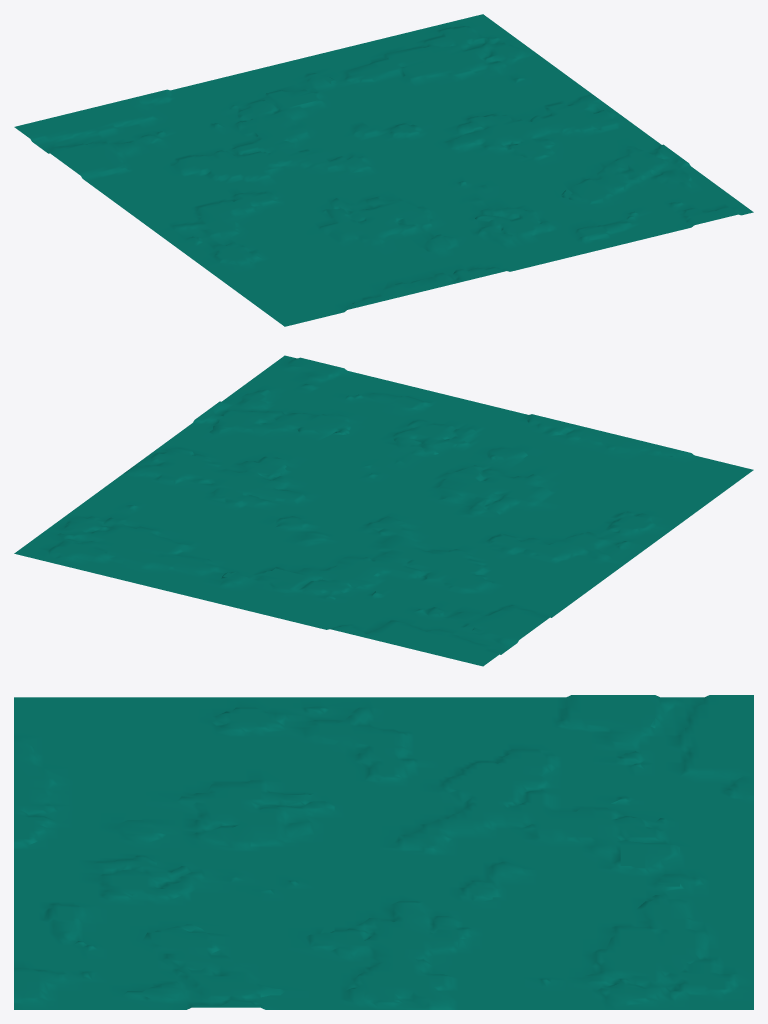
Rendered from environment_base.obj.
3 views of the same model, one above another, from view 1: azimuth 30°, elevation 25°; view 2: azimuth 150°, elevation 25°; view 3: azimuth 270°, elevation 25° (orthographic). The views are drawn at different scales.
Parts seen in each view (by area): view 1: environment_base; view 2: environment_base; view 3: environment_base.
Boxes of the visible parts, x1,y1,x2,y2 form: environment_base: (14,14,753,326); environment_base: (14,355,753,666); environment_base: (14,695,753,1009).
Bounding box in the file's own units: 30000 × 100 × 30000.
